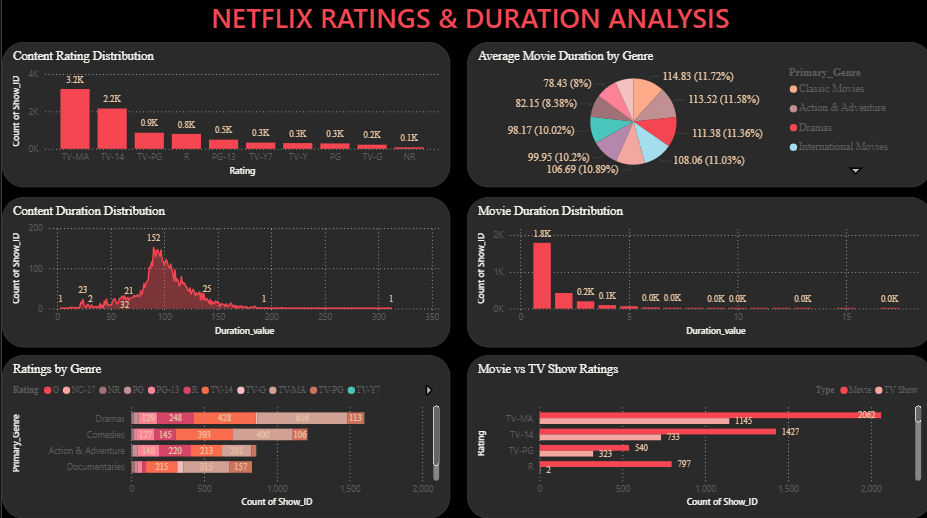

The page's visual inventory and layout, read from the dashboard file:
{"tool":"powerbi","page":{"name":"Ratings & Duration Analysis","canvas":[1280,720],"ordinal":4},"visuals":[{"type":"clusteredColumnChart","title":"Content Rating Distribution","fields":{"Y":["CountNonNull(netflix_titles (Autosaved).Show_ID)"],"Category":["netflix_titles (Autosaved).Rating"]},"box":[0,65,616.7,200],"z":0},{"type":"clusteredColumnChart","title":"Movie Duration Distribution","fields":{"Category":["netflix_titles (Autosaved).Duration_value"],"Y":["CountNonNull(netflix_titles (Autosaved).Show_ID)"]},"box":[640,278.3,640,206.7],"z":1000},{"type":"areaChart","title":"Content Duration Distribution","fields":{"Category":["netflix_titles (Autosaved).Duration_value"],"Y":["CountNonNull(netflix_titles (Autosaved).Show_ID)"]},"box":[0,278.3,616.7,206.7],"z":2000},{"type":"barChart","title":"Ratings by Genre","fields":{"Category":["netflix_titles (Autosaved).Primary_Genre"],"Y":["CountNonNull(netflix_titles (Autosaved).Show_ID)"],"Series":["netflix_titles (Autosaved).Rating"]},"box":[0,495,616.7,225],"z":3000},{"type":"pieChart","title":"Average Movie Duration by Genre","fields":{"Category":["netflix_titles (Autosaved).Primary_Genre"],"Y":["Avg(netflix_titles (Autosaved).Duration_value)"]},"box":[640,65,640,200],"z":4000},{"type":"clusteredBarChart","title":"Movie vs TV Show Ratings","fields":{"Category":["netflix_titles (Autosaved).Rating"],"Y":["CountNonNull(netflix_titles (Autosaved).Show_ID)"],"Series":["netflix_titles (Autosaved).Type"]},"box":[640,495,640,225],"z":5000},{"type":"textbox","box":[68.3,0,1141.7,65],"z":5001}]}

Visuals, with their boxes in screenshot pixels (x1, y1, x2, y2), scaled from the page's 1280x720 canvas onto the 927x518 screenshot:
"Content Rating Distribution" clusteredColumnChart: l=0, t=47, r=447, b=191
"Movie Duration Distribution" clusteredColumnChart: l=464, t=200, r=926, b=349
"Content Duration Distribution" areaChart: l=0, t=200, r=447, b=349
"Ratings by Genre" barChart: l=0, t=356, r=447, b=517
"Average Movie Duration by Genre" pieChart: l=464, t=47, r=926, b=191
"Movie vs TV Show Ratings" clusteredBarChart: l=464, t=356, r=926, b=517
textbox: l=49, t=0, r=876, b=47
